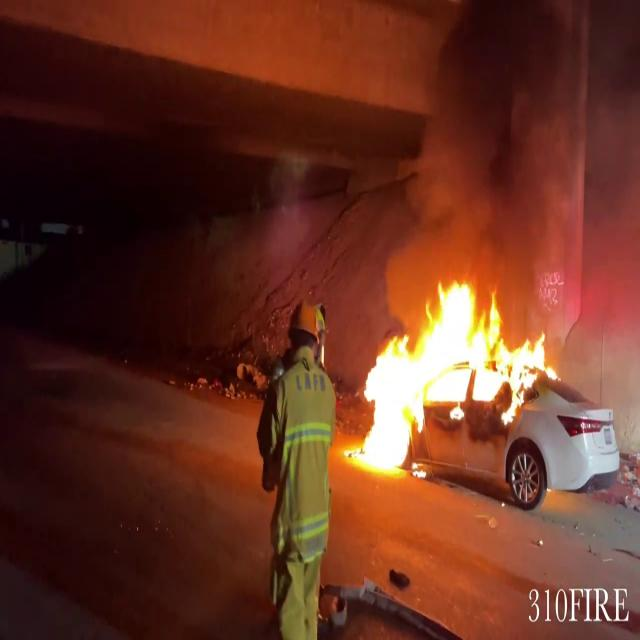Fire: (345, 269, 555, 477)
Smoke: (355, 0, 640, 295)
